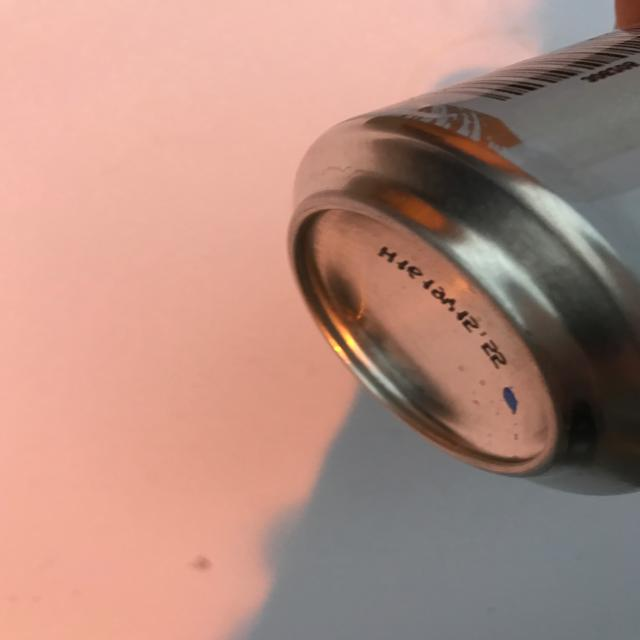metal: (286, 20, 640, 495)
